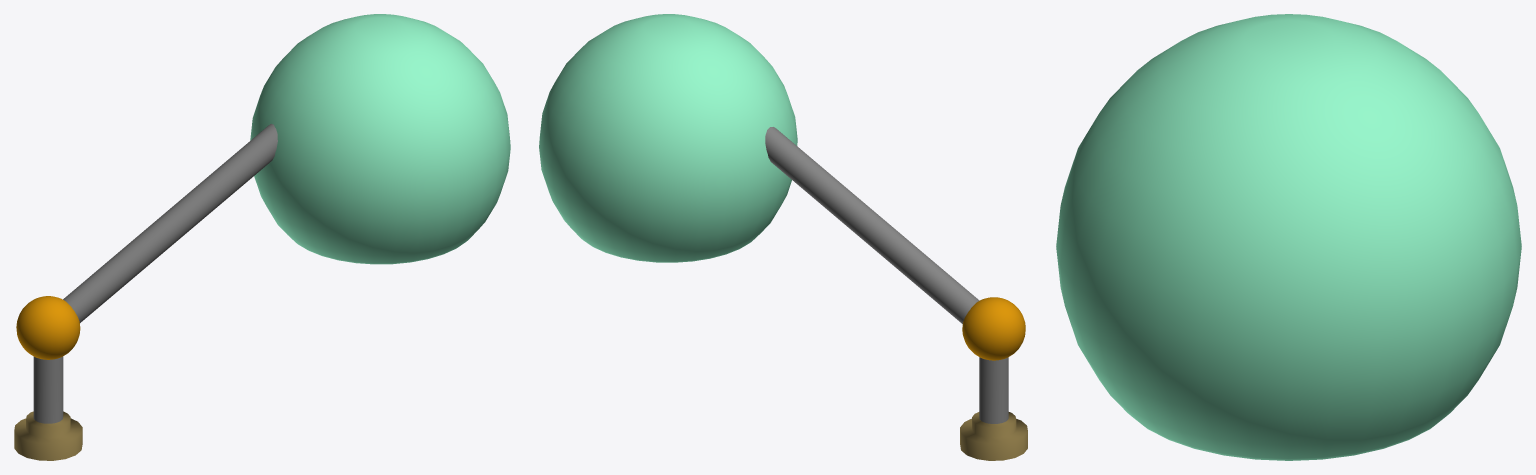
File: Lampadaire.fbx
3 renders of one model, left to right at view 1: azimuth 30°, elevation 25°; view 2: azimuth 150°, elevation 25°; view 3: azimuth 270°, elevation 25°, orthographic. The views are drawn at different scales.
Visible parts, largest first — view 1: Sphere.001, Cylinder.001, trunk, trunkball; view 2: Sphere.001, Cylinder.001, trunk, trunkball; view 3: Sphere.001.
Part boxes in pixels (x1=…): Sphere.001: x1=250, y1=14, x2=510, y2=264; Cylinder.001: x1=63, y1=123, x2=277, y2=322; trunk: x1=14, y1=356, x2=82, y2=460; trunkball: x1=16, y1=296, x2=80, y2=359; Sphere.001: x1=539, y1=14, x2=797, y2=262; Cylinder.001: x1=765, y1=127, x2=979, y2=323; trunk: x1=960, y1=357, x2=1027, y2=460; trunkball: x1=962, y1=297, x2=1025, y2=360; Sphere.001: x1=1056, y1=14, x2=1521, y2=460.
Size of the model in its own units: 14.9 by 7.13 by 10.22.
